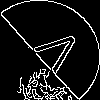V: (25, 25, 86, 80)
